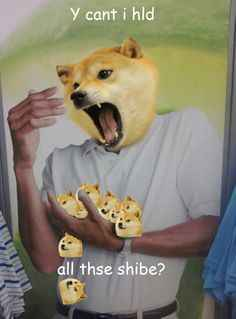doge: (52, 35, 156, 155), (57, 277, 87, 304), (57, 232, 83, 259), (116, 209, 141, 236), (116, 193, 141, 216), (56, 193, 79, 215), (77, 182, 101, 203), (97, 196, 113, 219)
